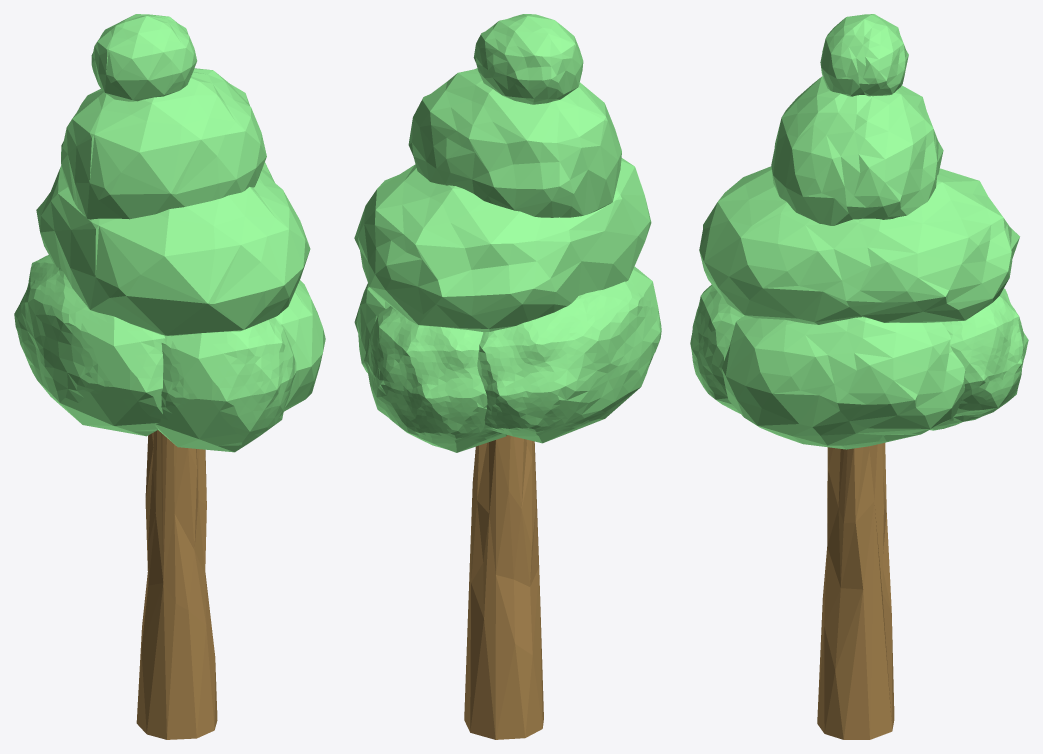
File: pohon3.fbx
The picture shows the model from 3 angles, left to right: view 1: azimuth 30°, elevation 25°; view 2: azimuth 150°, elevation 25°; view 3: azimuth 270°, elevation 25°; orthographic projection. The views are drawn at different scales.
Parts seen in each view (by area): view 1: Cylinder.020; view 2: Cylinder.020; view 3: Cylinder.020.
Part boxes in pixels (x1,y1,x2,y2): Cylinder.020: (14, 14, 325, 739); Cylinder.020: (354, 14, 661, 739); Cylinder.020: (690, 14, 1028, 739).
Size of the model in its own units: 685 by 1546 by 574.
